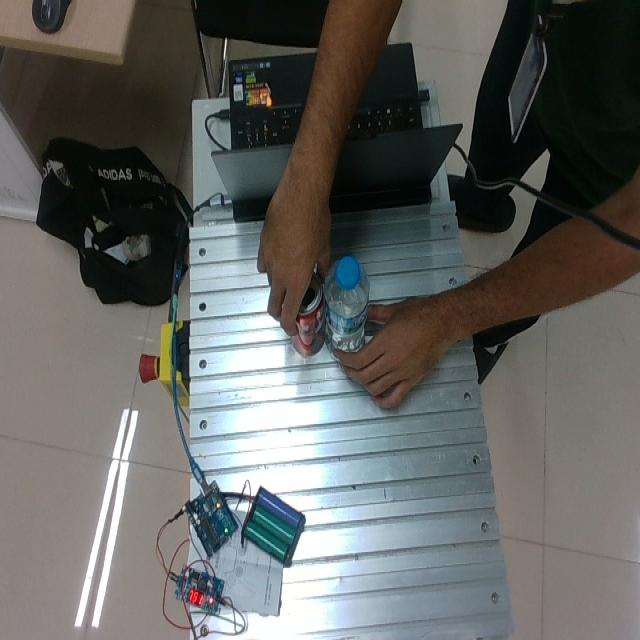coca: (290, 278, 326, 358)
lavie: (322, 254, 370, 358)
